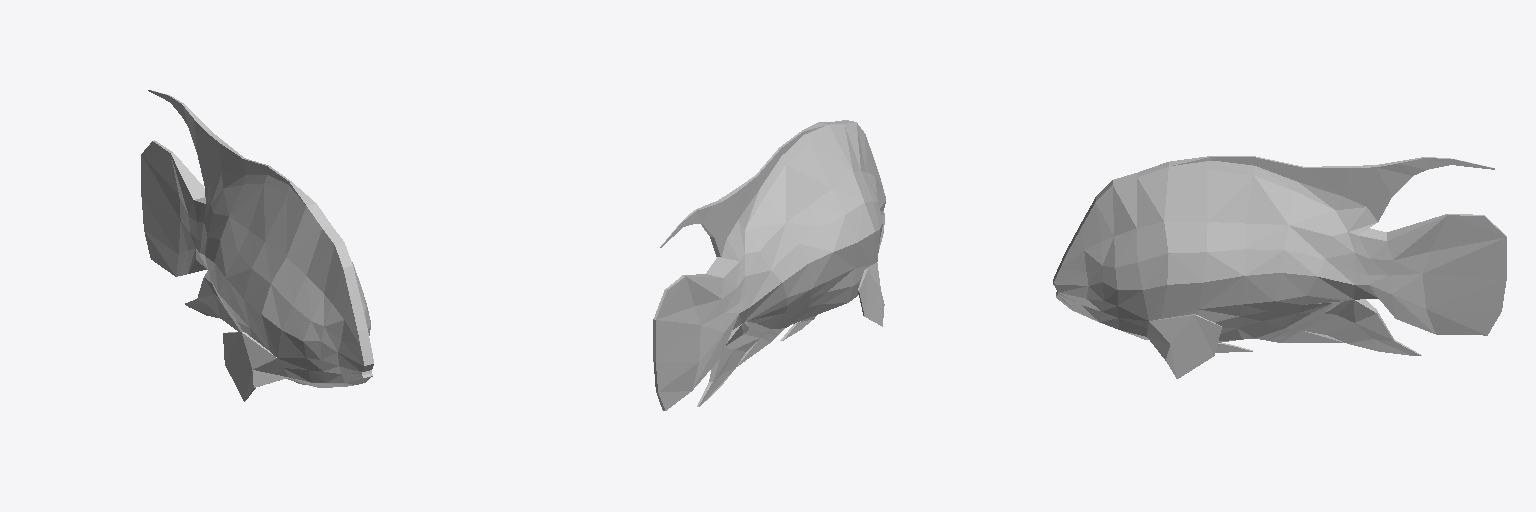
The model's file is Fish06.obj.
The picture shows the model from 3 angles: view 1: azimuth 30°, elevation 25°; view 2: azimuth 150°, elevation 25°; view 3: azimuth 270°, elevation 25°; orthographic projection.
Parts seen in each view (by area): view 1: TropicalFish06:TropicalFish06; view 2: TropicalFish06:TropicalFish06; view 3: TropicalFish06:TropicalFish06.
Boxes of the visible parts, <box> form: TropicalFish06:TropicalFish06: <box>141,90,373,401</box>; TropicalFish06:TropicalFish06: <box>653,120,885,410</box>; TropicalFish06:TropicalFish06: <box>1053,156,1506,378</box>.
Size of the model in its own units: 15.33 by 22.81 by 47.09.